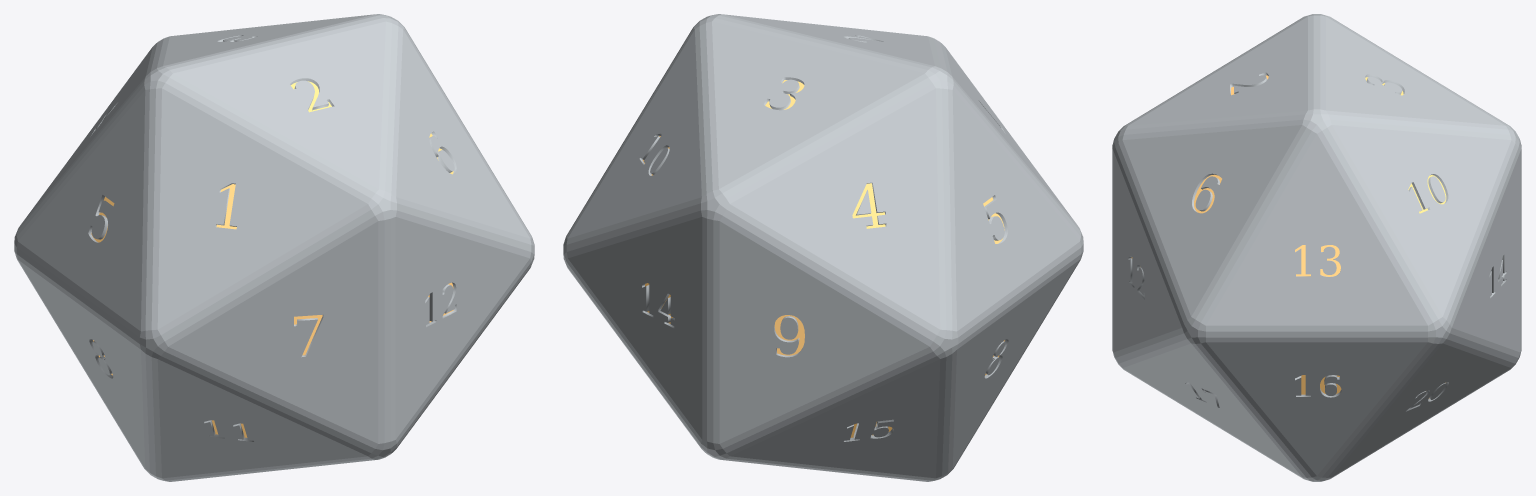
The model's file is d20_boolean_engraved.glb.
The picture shows the model from 3 angles, left to right: view 1: azimuth 30°, elevation 25°; view 2: azimuth 150°, elevation 25°; view 3: azimuth 270°, elevation 25°; orthographic projection. The views are drawn at different scales.
Parts seen in each view (by area): view 1: Sculpted_Obsidian, Recessed_Bronze_Number_Geometry; view 2: Sculpted_Obsidian, Recessed_Bronze_Number_Geometry; view 3: Sculpted_Obsidian, Recessed_Bronze_Number_Geometry.
Part boxes in pixels (x1,y1,x2,y2): Sculpted_Obsidian: (14,14,534,481); Recessed_Bronze_Number_Geometry: (91,81,453,437); Sculpted_Obsidian: (563,14,1083,481); Recessed_Bronze_Number_Geometry: (642,80,1004,437); Sculpted_Obsidian: (1112,14,1521,481); Recessed_Bronze_Number_Geometry: (1131,75,1446,398).
Bounding box in the file's own units: 1.48 × 1.48 × 1.48.
Materials: 2 (1 with a texture image).
